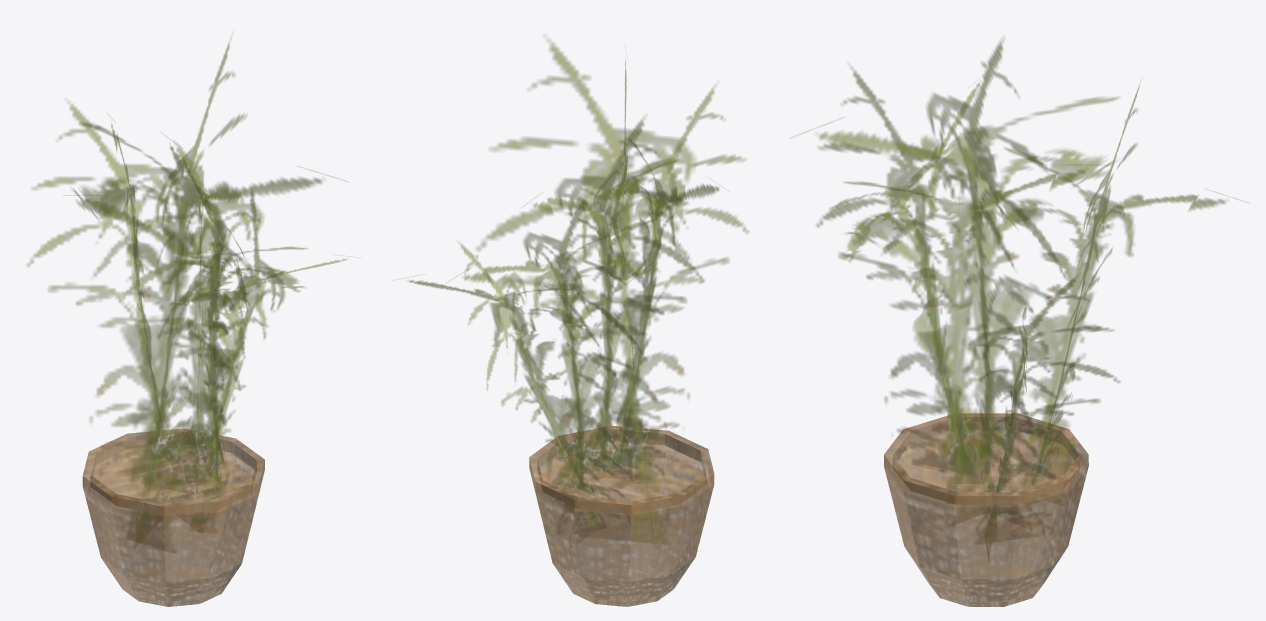
File: Flowerpot_Plant_-_PS1_Low_Poly.glb
The picture shows the model from 3 angles, left to right: view 1: azimuth 30°, elevation 25°; view 2: azimuth 150°, elevation 25°; view 3: azimuth 270°, elevation 25°; orthographic projection. The views are drawn at different scales.
Visible parts, largest first — view 1: Plane.002_Flowerpot_0; view 2: Plane.002_Flowerpot_0; view 3: Plane.002_Flowerpot_0.
Part boxes in pixels (bbox=[...]): Plane.002_Flowerpot_0: bbox=[27, 38, 346, 606]; Plane.002_Flowerpot_0: bbox=[409, 39, 748, 606]; Plane.002_Flowerpot_0: bbox=[793, 39, 1244, 606].
Size of the model in its own units: 5.2 by 8.62 by 5.97.
1 material, 1 textured.
